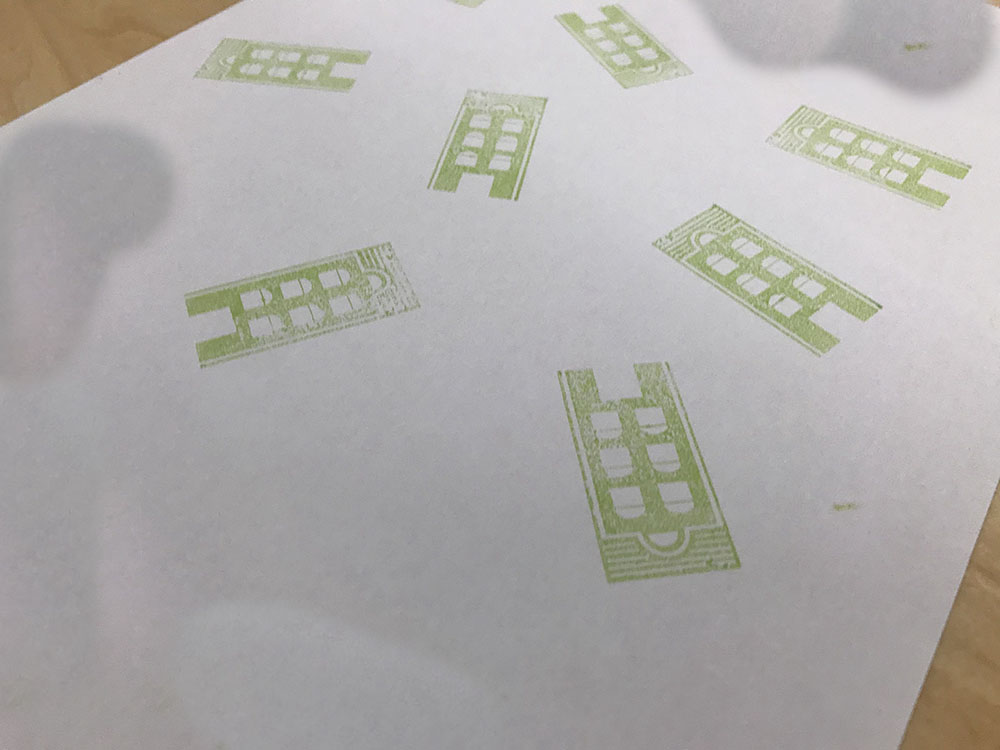build: (544, 353, 758, 606), (162, 216, 437, 385), (638, 191, 892, 368), (750, 86, 981, 229), (418, 78, 557, 215), (180, 28, 389, 110), (542, 1, 704, 94)
